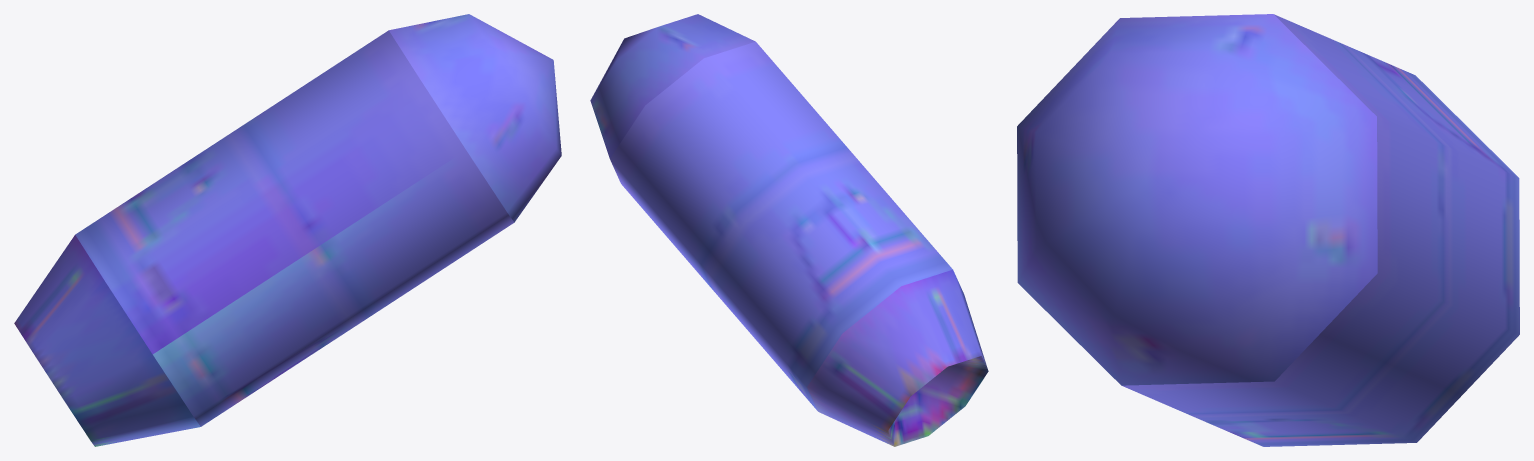
The model's file is ama_collectable_scrap_05.glb.
3 renders of one model, left to right at view 1: azimuth 30°, elevation 25°; view 2: azimuth 150°, elevation 25°; view 3: azimuth 270°, elevation 25°, orthographic. The views are drawn at different scales.
Parts seen in each view (by area): view 1: shipScrapPart_05; view 2: shipScrapPart_05; view 3: shipScrapPart_05.
Part boxes in pixels (left/top/right/bottom): shipScrapPart_05: left=14, top=14, right=561, bottom=446; shipScrapPart_05: left=590, top=14, right=988, bottom=446; shipScrapPart_05: left=1017, top=14, right=1519, bottom=446.
Bounding box in the file's own units: 1.05 × 0.7834 × 0.5663.
Materials: 1 (1 with a texture image).
